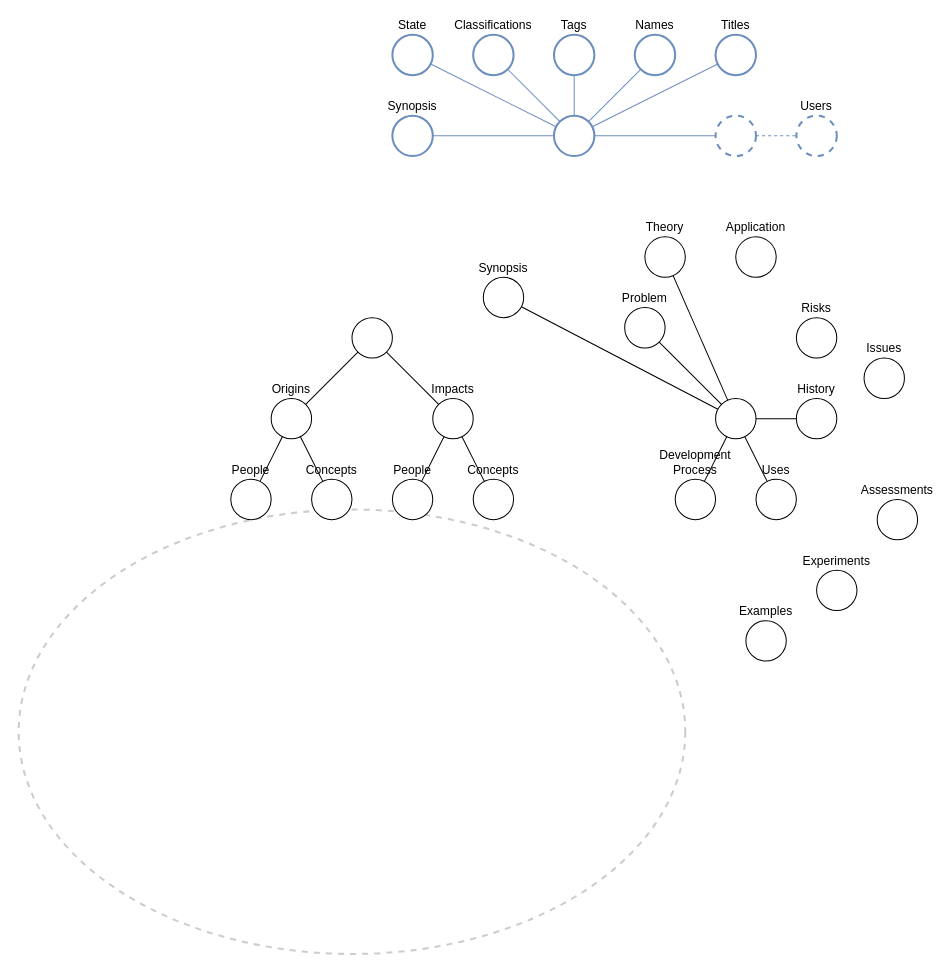
The diagram is 950 pixels wide and 972 high, and some of its shapes have lost their labels. Here are the shapes that lost their labels. From the top down, the box of each, then its label:
(552, 114, 595, 157): Metadata
(714, 114, 756, 157): Roles
(351, 317, 392, 358): Context
(715, 397, 756, 439): Aspects
(17, 508, 686, 954): Concept
